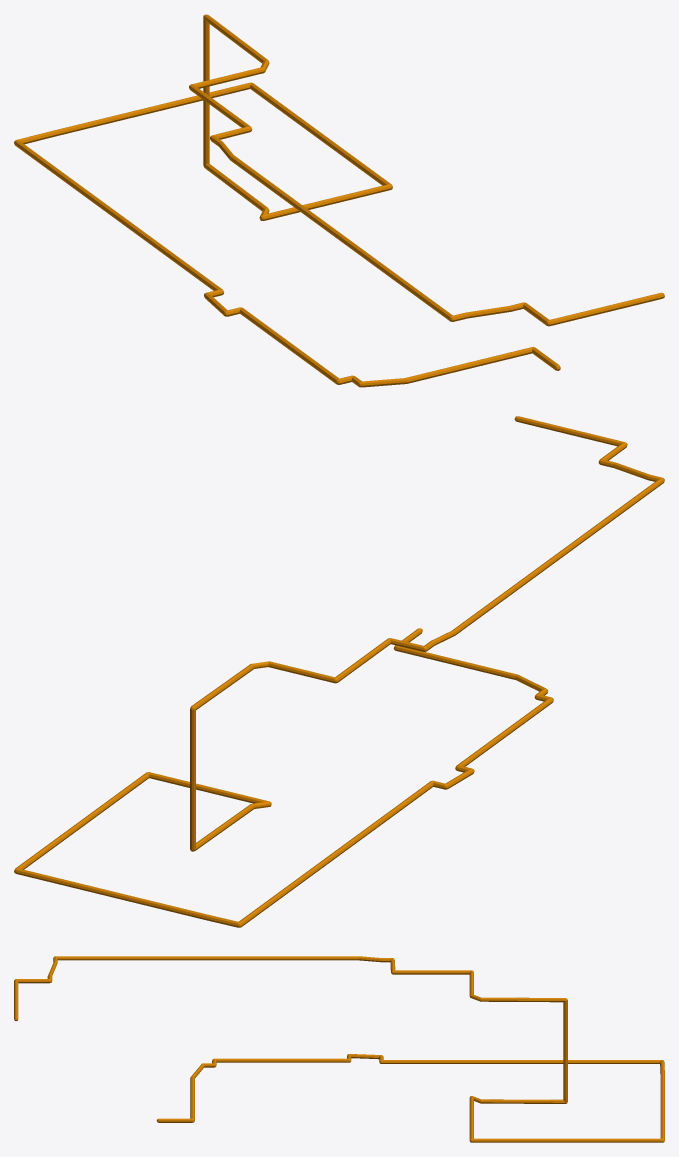
The picture shows the model from 3 angles, top to bottom: view 1: azimuth 30°, elevation 25°; view 2: azimuth 150°, elevation 25°; view 3: azimuth 270°, elevation 25°; orthographic projection. The views are drawn at different scales.
Bounding box in the file's own units: 912 × 520 × 2898.
